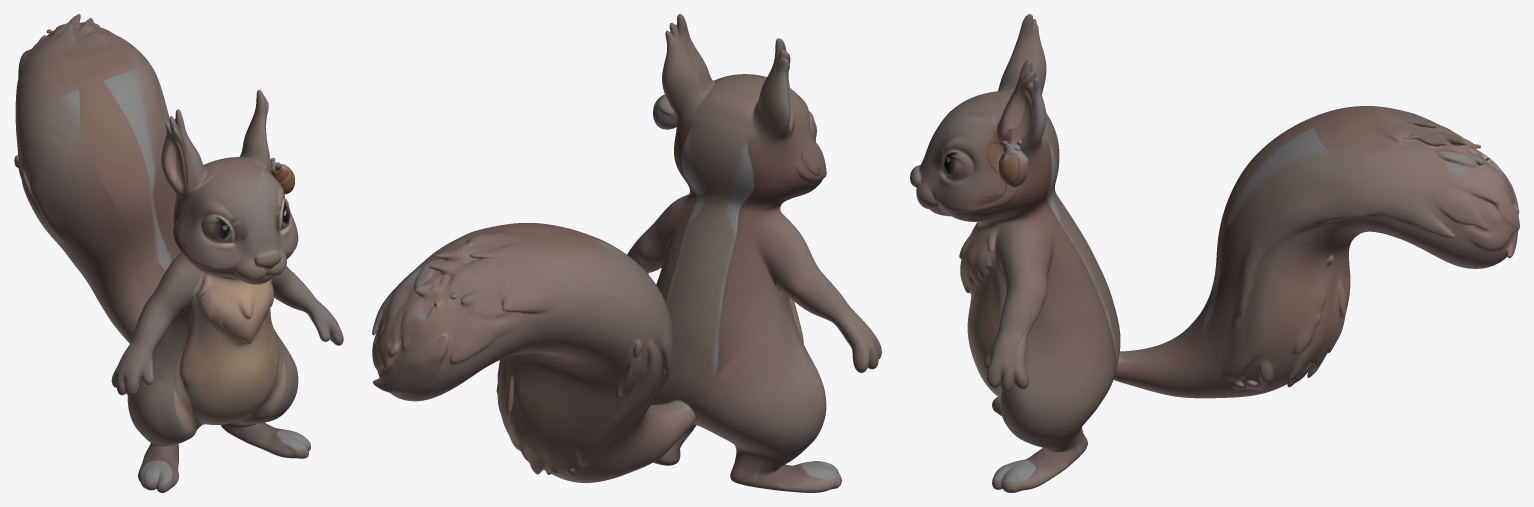
The model's file is cartoon squirrel 3d model.glb.
3 views of the same model, side by side, from view 1: azimuth 30°, elevation 25°; view 2: azimuth 150°, elevation 25°; view 3: azimuth 270°, elevation 25° (orthographic). The views are drawn at different scales.
Parts seen in each view (by area): view 1: tripo_node_e5217a6c-abae-4fa7-af81-bfe19680af10; view 2: tripo_node_e5217a6c-abae-4fa7-af81-bfe19680af10; view 3: tripo_node_e5217a6c-abae-4fa7-af81-bfe19680af10.
Part boxes in pixels (x1,y1,x2,y2): tripo_node_e5217a6c-abae-4fa7-af81-bfe19680af10: [14, 14, 343, 492]; tripo_node_e5217a6c-abae-4fa7-af81-bfe19680af10: [372, 14, 881, 492]; tripo_node_e5217a6c-abae-4fa7-af81-bfe19680af10: [910, 14, 1519, 492].
Size of the model in its own units: 0.4775 by 0.7486 by 1.
1 material, 1 textured.
